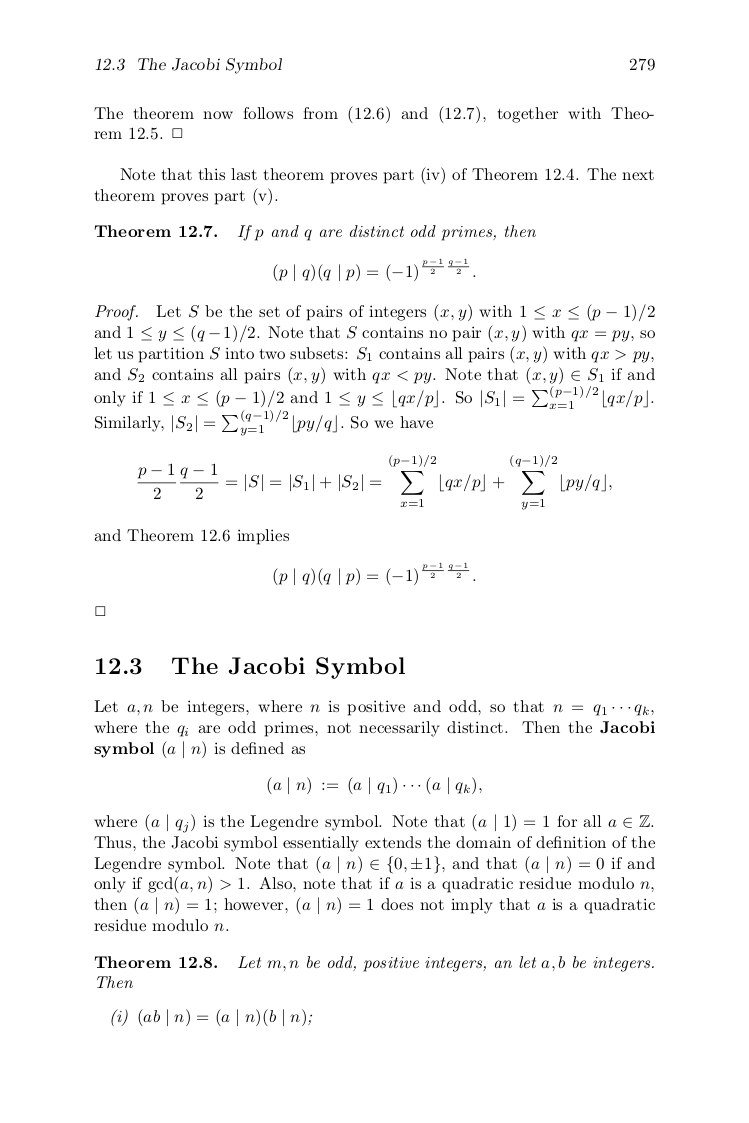formula: (137, 454, 611, 510), (273, 257, 475, 282), (273, 561, 475, 586), (267, 776, 481, 795), (111, 1008, 312, 1027)
